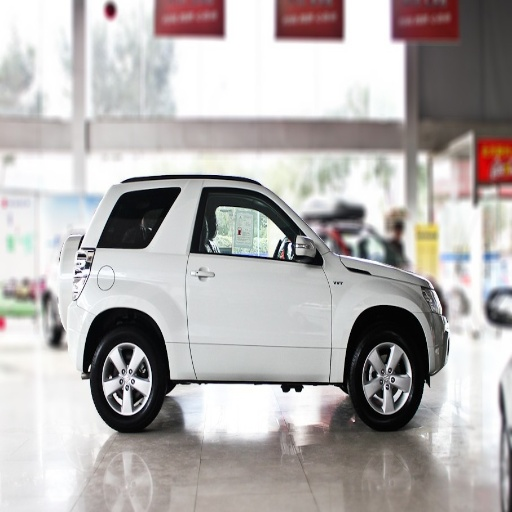front_right_door: (211, 185, 332, 373)
trunk: (69, 252, 182, 377)
